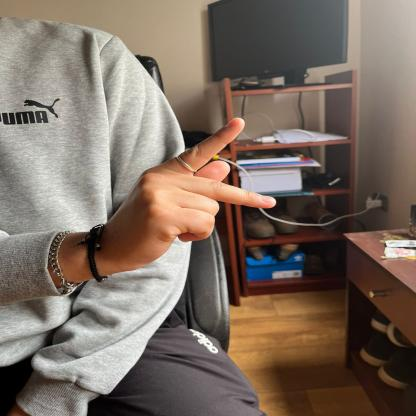K: (125, 114, 280, 276)
